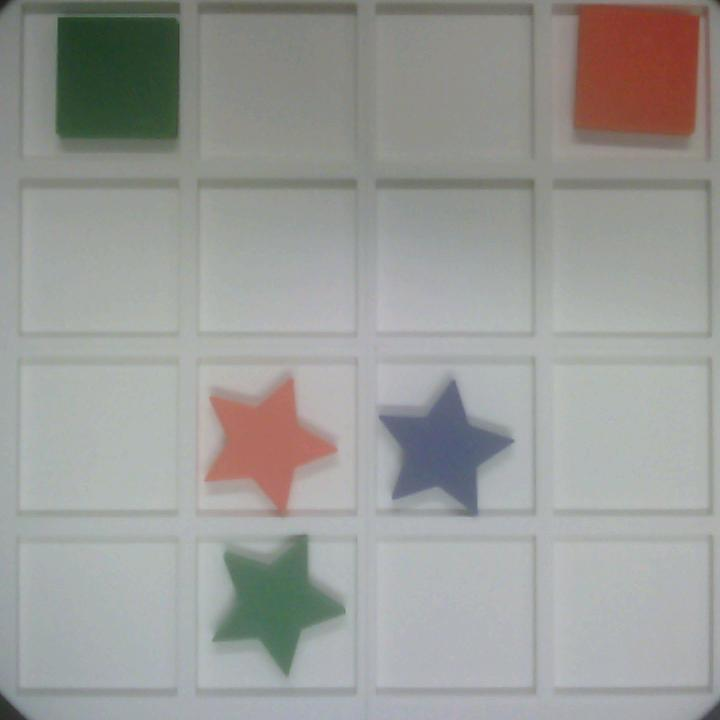Blue star: (373, 378, 506, 513)
Green square: (50, 12, 181, 141)
Green star: (206, 534, 347, 674)
Orange square: (569, 1, 702, 140)
Orange star: (202, 378, 336, 514)
